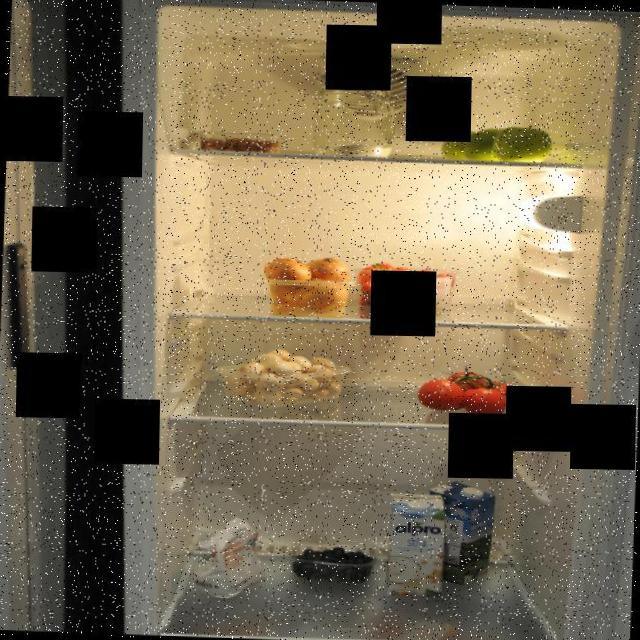Cebolla: (262, 252, 348, 316)
Champiñones: (213, 347, 352, 409)
Gambas/Langostinos: (196, 127, 285, 157)
Leche: (426, 477, 494, 587), (384, 490, 449, 600)
Manzana: (437, 116, 553, 166)
Tomate: (416, 363, 522, 420)
